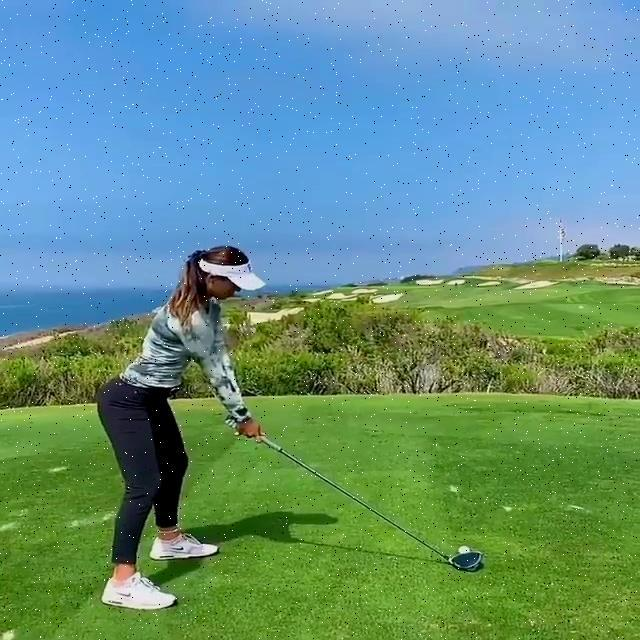ClubHandle: (224, 415, 484, 570)
ClubHead: (449, 551, 484, 570)
GolfBall: (458, 546, 471, 554)
